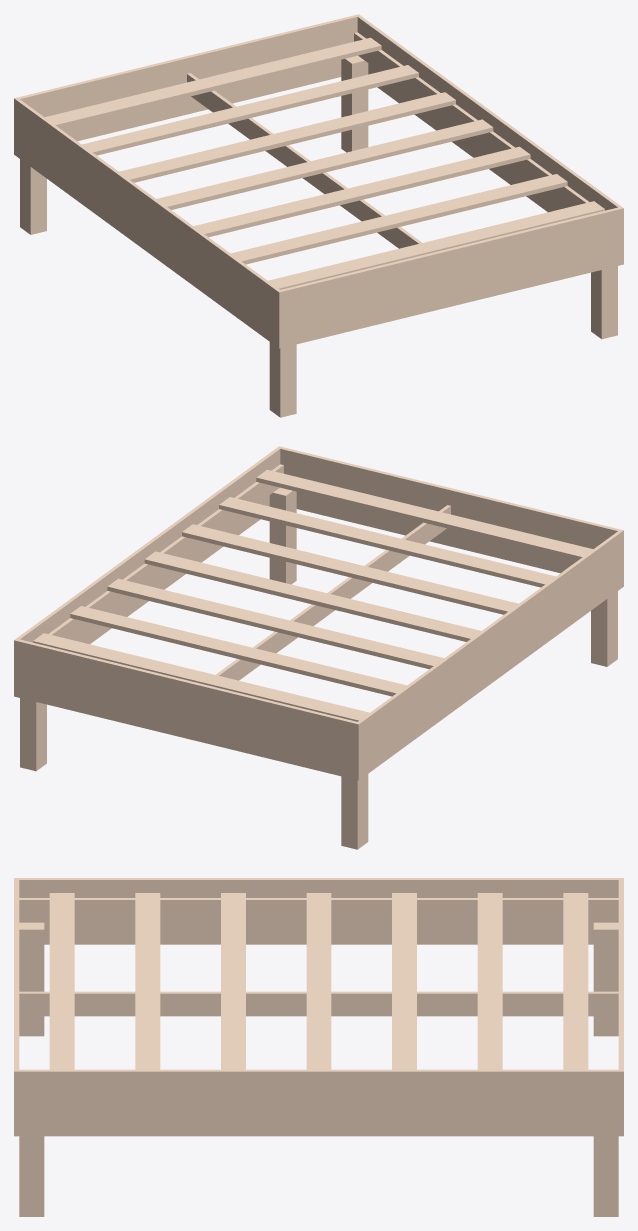
File: Bed Frame 2 FBX.fbx
3 renders of one model, top to bottom at view 1: azimuth 30°, elevation 25°; view 2: azimuth 150°, elevation 25°; view 3: azimuth 270°, elevation 25°, orthographic. The views are drawn at different scales.
Visible parts, largest first — view 1: Cube_0_007, Cube_0_008, Cube_1_009, Cube_1_006, Cube_2_003, Cube_3_003, Cube_1_007, Cube_4_003, Cube_009, Cube_5_003, Cube_0_006, slat__supports_004 (+5 smaller); view 2: Cube_1_009, Cube_0_008, Cube_0_007, Cube_1_006, Cube_3_003, Cube_4_003, Cube_5_003, Cube_0_006, Cube_2_003, Cube_1_007, Cube_009, slat__supports_004 (+5 smaller); view 3: Cube_1_006, Cube_0_008, slat__supports_004, slat__supports_003, Cube_0_006, Cube_1_007, Cube_3_003, Cube_5_003, Cube_009, Cube_2_003, Cube_4_003, Cube_008 (+5 smaller).
Part boxes in pixels (box(x1,y1,x2,y2)): Cube_0_007: box(277, 206, 623, 348); Cube_0_008: box(16, 99, 279, 346); Cube_1_009: box(14, 14, 360, 155); Cube_1_006: box(357, 16, 621, 212); Cube_2_003: box(193, 146, 530, 237); Cube_3_003: box(156, 119, 493, 209); Cube_1_007: box(231, 174, 567, 264); Cube_4_003: box(119, 92, 455, 182); Cube_009: box(45, 37, 381, 128); Cube_5_003: box(82, 65, 418, 155); Cube_0_006: box(268, 201, 604, 289); slat__supports_004: box(187, 73, 421, 248); Cube_1_009: box(14, 638, 360, 780); Cube_0_008: box(358, 531, 621, 778); Cube_0_007: box(277, 446, 623, 587); Cube_1_006: box(16, 448, 280, 644); Cube_3_003: box(144, 551, 481, 641); Cube_4_003: box(107, 578, 444, 669); Cube_5_003: box(70, 606, 406, 696); Cube_0_006: box(256, 469, 592, 560); Cube_2_003: box(182, 524, 518, 614); Cube_1_007: box(219, 497, 555, 587); Cube_009: box(33, 633, 369, 721); slat__supports_004: box(216, 505, 450, 680); Cube_1_006: box(19, 1069, 618, 1136); Cube_0_008: box(19, 878, 618, 944); slat__supports_004: box(19, 991, 618, 1016); slat__supports_003: box(19, 898, 618, 922); Cube_0_006: box(49, 893, 74, 1069); Cube_1_007: box(135, 893, 160, 1069); Cube_3_003: box(306, 893, 331, 1069); Cube_5_003: box(477, 893, 502, 1069); Cube_009: box(563, 893, 588, 1069); Cube_2_003: box(221, 893, 245, 1069); Cube_4_003: box(392, 893, 416, 1069); Cube_008: box(19, 922, 44, 1036).
Size of the model in its own units: 162 by 57.56 by 216.
